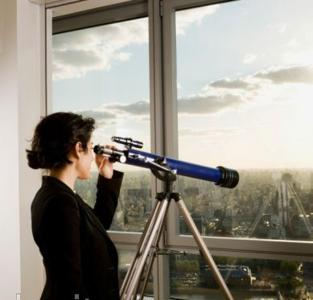person: (25, 111, 123, 300)
